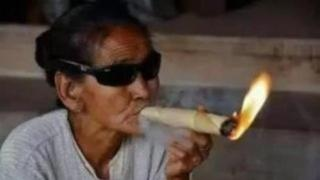smoking: (136, 94, 244, 146)
